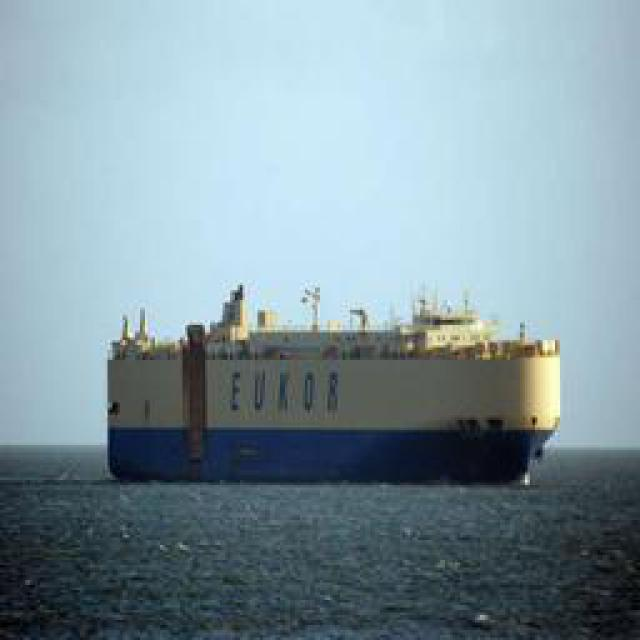Ship: (98, 287, 553, 490)
